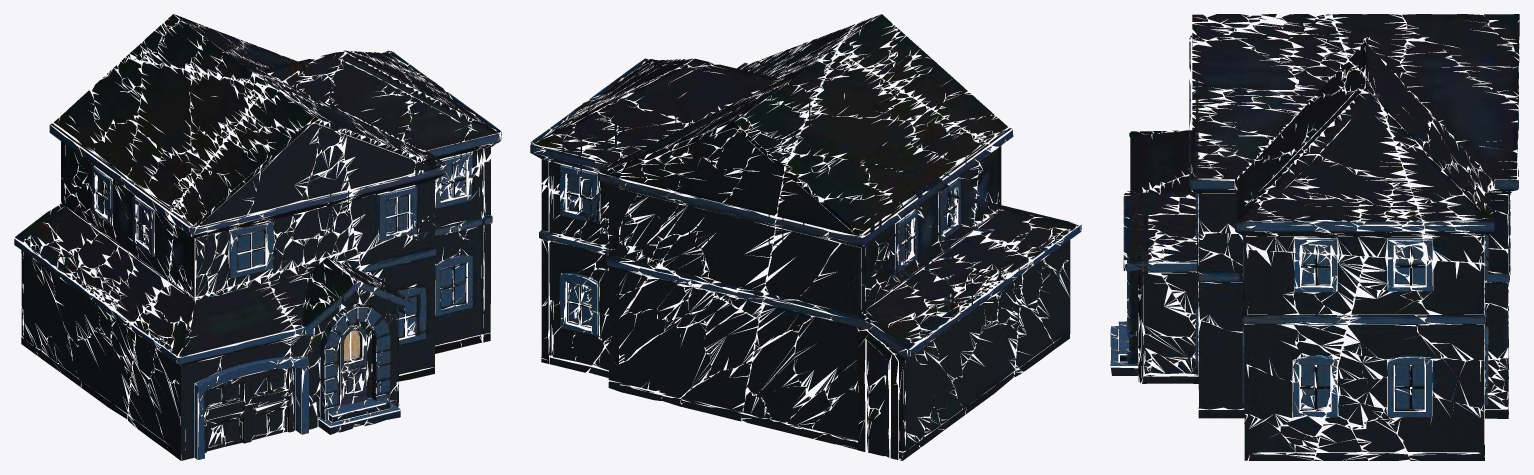
The model's file is house-gate-preview.glb.
3 renders of one model, left to right at view 1: azimuth 30°, elevation 25°; view 2: azimuth 150°, elevation 25°; view 3: azimuth 270°, elevation 25°, orthographic. The views are drawn at different scales.
Visible parts, largest first — view 1: tmp6jshihzv.obj.001; view 2: tmp6jshihzv.obj.001; view 3: tmp6jshihzv.obj.001.
Boxes of the visible parts, box(x1,y1,x2,y2) form: tmp6jshihzv.obj.001: box(14, 14, 501, 460); tmp6jshihzv.obj.001: box(530, 14, 1081, 460); tmp6jshihzv.obj.001: box(1110, 14, 1519, 460).
Bounding box in the file's own units: 1.36 × 1.01 × 1.12.
1 material, 1 textured.
